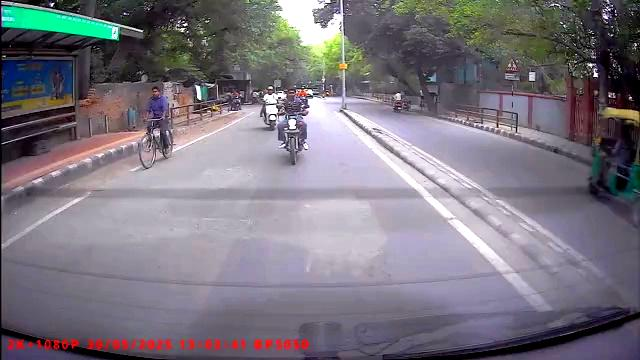motorcycle_with_helmet: (261, 84, 278, 131)
motorcycle_without_helmet: (277, 87, 311, 167)
